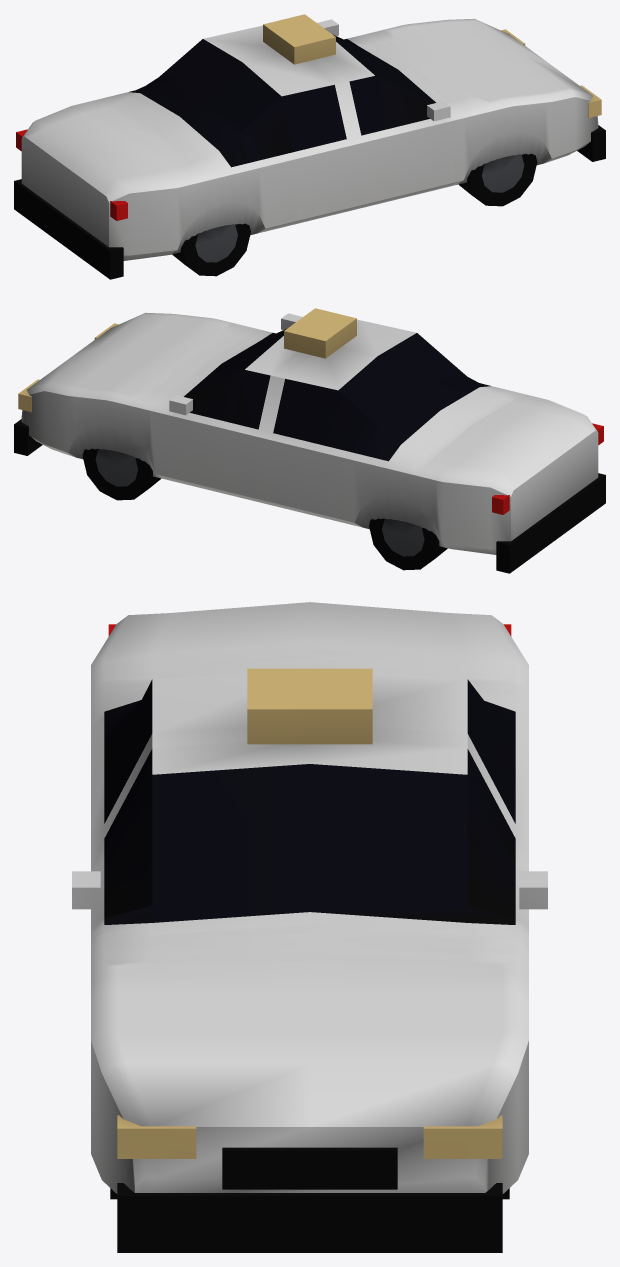
Rendered from taxi.glb.
3 renders of one model, top to bottom at view 1: azimuth 30°, elevation 25°; view 2: azimuth 150°, elevation 25°; view 3: azimuth 270°, elevation 25°, orthographic. The views are drawn at different scales.
Parts seen in each view (by area): view 1: paint, detail; view 2: paint, detail; view 3: paint, detail.
Boxes of the visible parts, left/top/right/bottom form: paint: left=21, top=18, right=598, bottom=260; detail: left=14, top=14, right=605, bottom=279; paint: left=21, top=312, right=598, bottom=554; detail: left=14, top=308, right=605, bottom=573; paint: left=72, top=602, right=547, bottom=1193; detail: left=104, top=624, right=515, bottom=1252.
Size of the model in its own units: 1.57 by 0.5347 by 0.6534.
